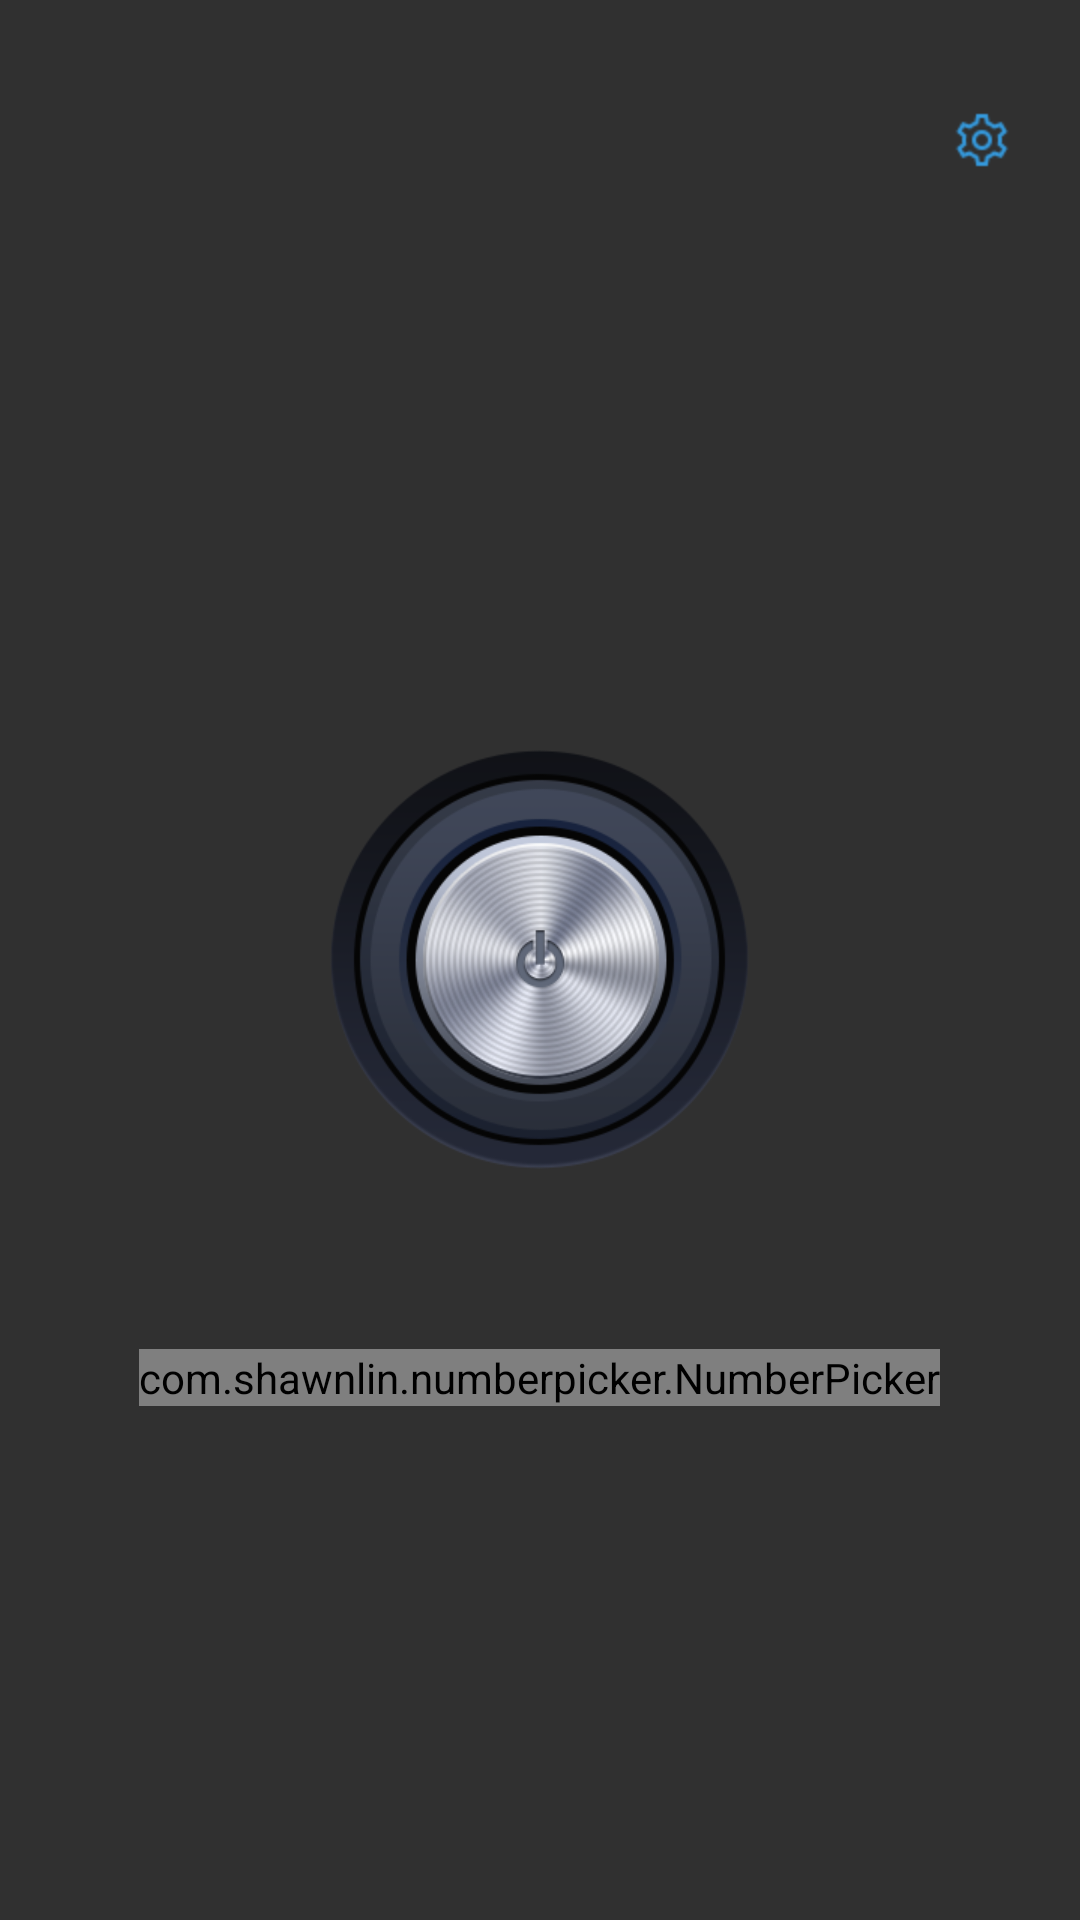

Icons on this 1080px×1920px Android screen, each with the point to tap as (x,y):
settings: (982,140)
